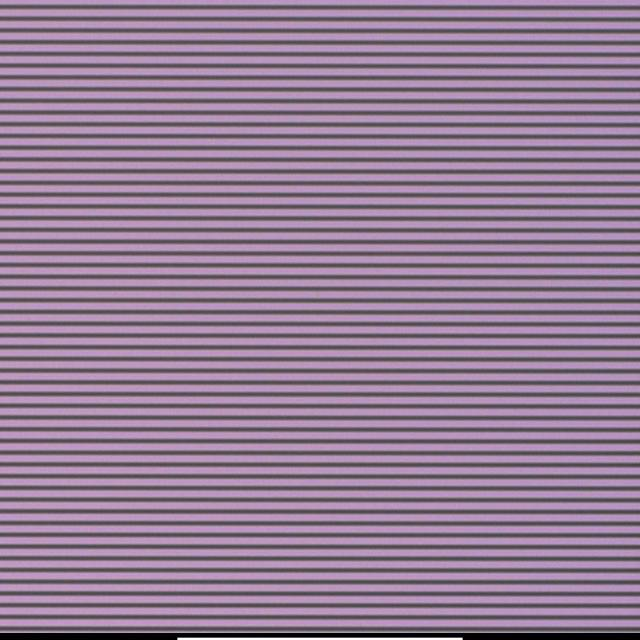nonvisual: (310, 290, 324, 302)
